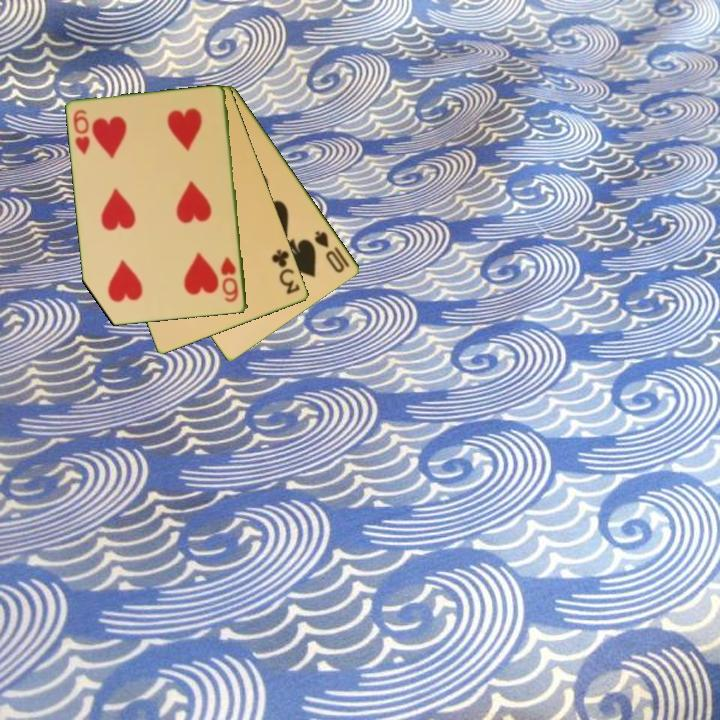10s: (311, 227, 348, 276)
3c: (268, 246, 303, 298)
6h: (217, 253, 242, 305), (70, 106, 93, 157)
